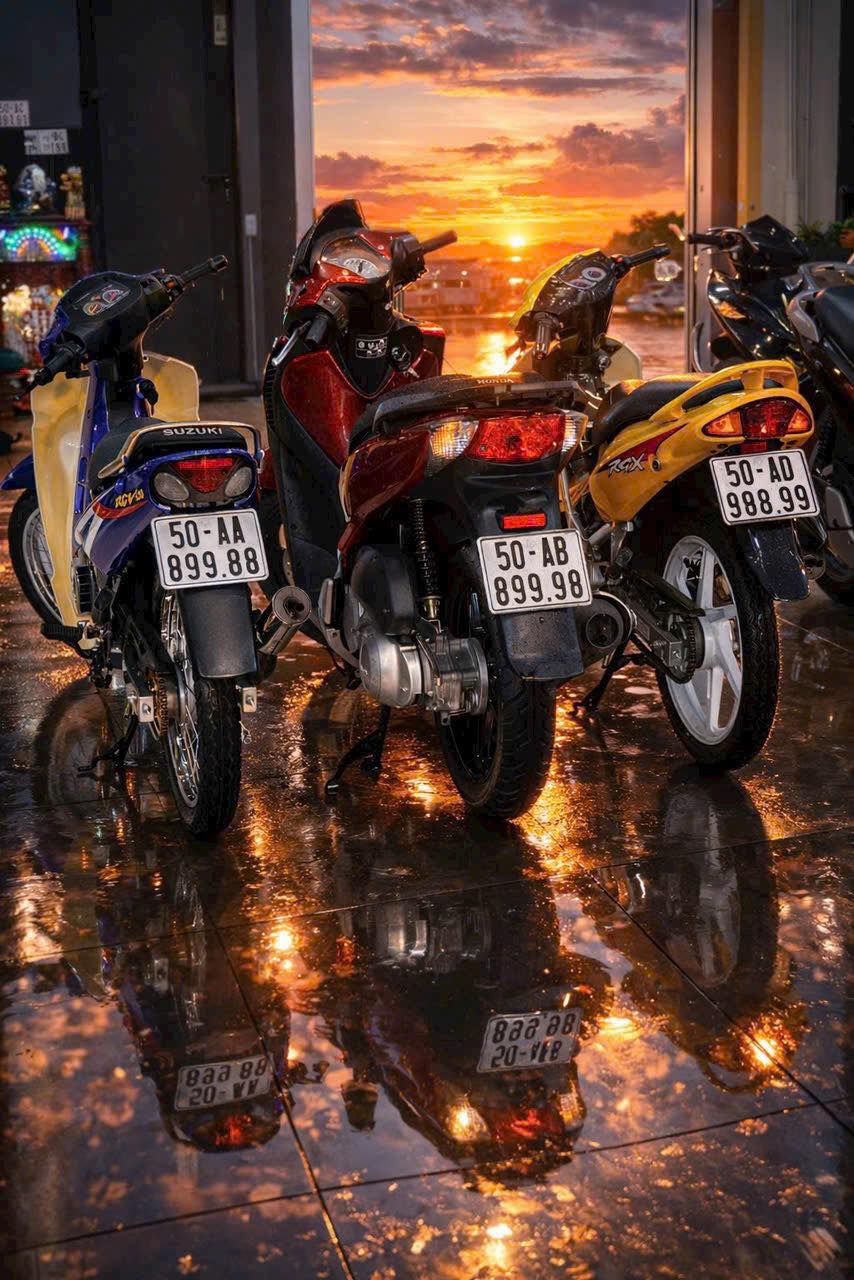bien_so: (144, 505, 276, 601), (471, 525, 603, 619), (695, 444, 824, 538)
